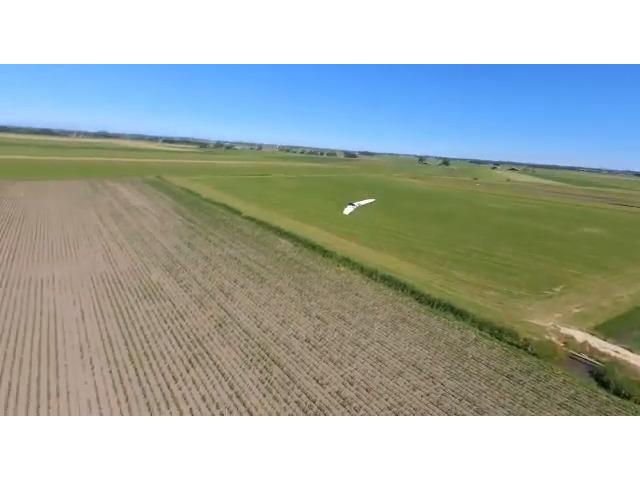Anti-Drone: (338, 183, 380, 225)
